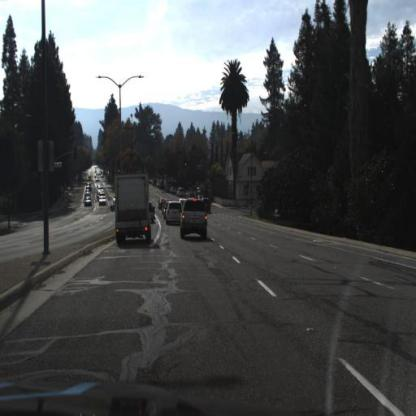car: (179, 197, 209, 242), (165, 200, 182, 226), (201, 196, 213, 215), (109, 198, 117, 215), (176, 187, 186, 199), (84, 198, 93, 208), (171, 185, 177, 195), (113, 193, 118, 203)
truck: (114, 171, 152, 246)
